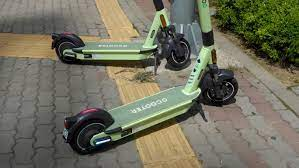guide_blocks: (113, 65, 195, 168), (1, 33, 143, 63), (96, 2, 138, 37)
kick_body: (84, 41, 142, 59)
kick_wheel: (63, 107, 111, 150), (202, 71, 237, 102), (51, 33, 84, 60), (166, 37, 191, 66)
